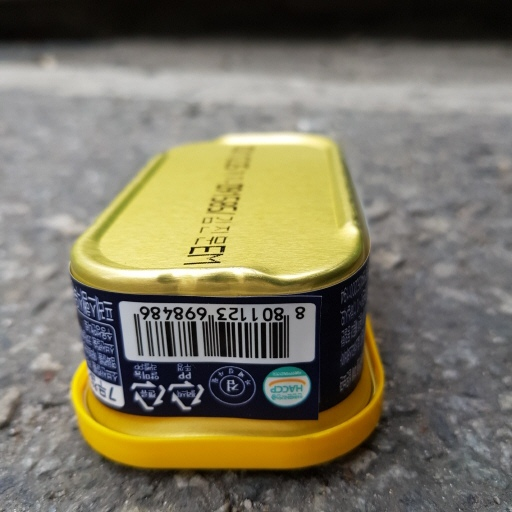Metal_2: (57, 128, 387, 471)
